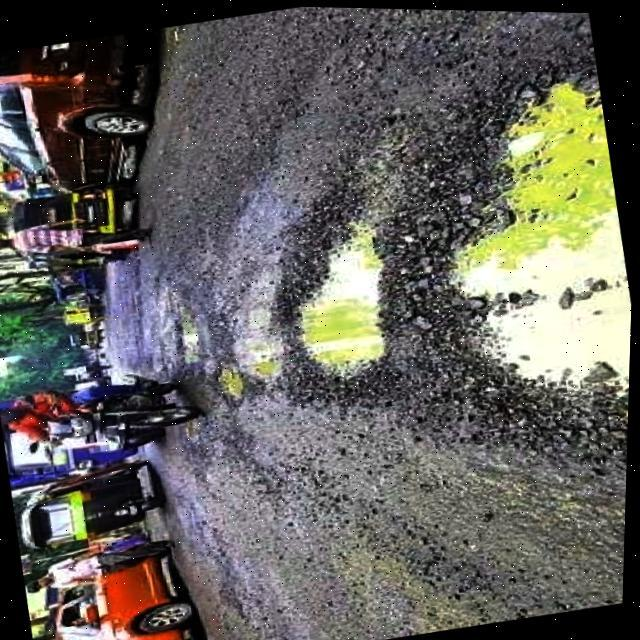pothole: (408, 64, 638, 428), (273, 210, 411, 387), (170, 309, 210, 366), (212, 358, 252, 402)
